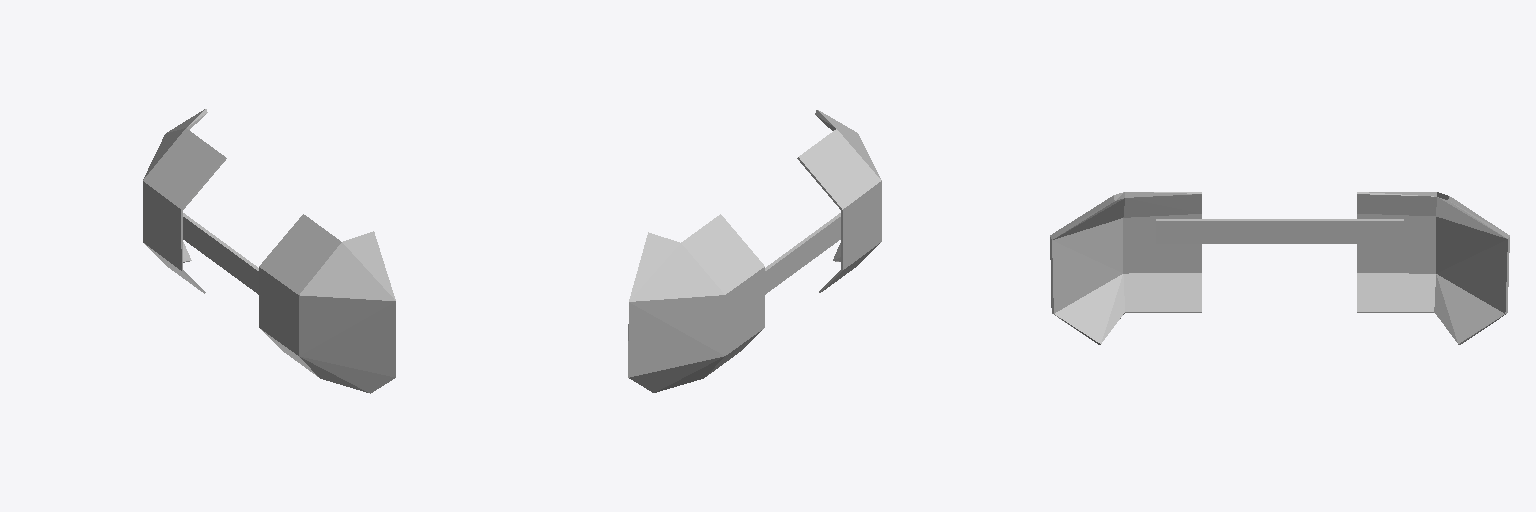
Rendered from Bronya 2.obj.
The picture shows the model from 3 angles: view 1: azimuth 30°, elevation 25°; view 2: azimuth 150°, elevation 25°; view 3: azimuth 270°, elevation 25°; orthographic projection.
Parts seen in each view (by area): view 1: Bronya_2; view 2: Bronya_2; view 3: Bronya_2.
Boxes of the visible parts, x1=… form: Bronya_2: x1=143, y1=109, x2=395, y2=393; Bronya_2: x1=628, y1=110, x2=881, y2=392; Bronya_2: x1=1050, y1=192, x2=1509, y2=344.
Bounding box in the file's own units: 11.31 × 23.29 × 62.7.